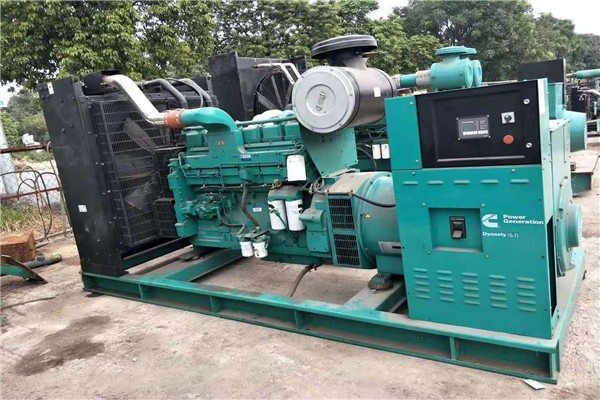oil: (12, 309, 108, 381)
